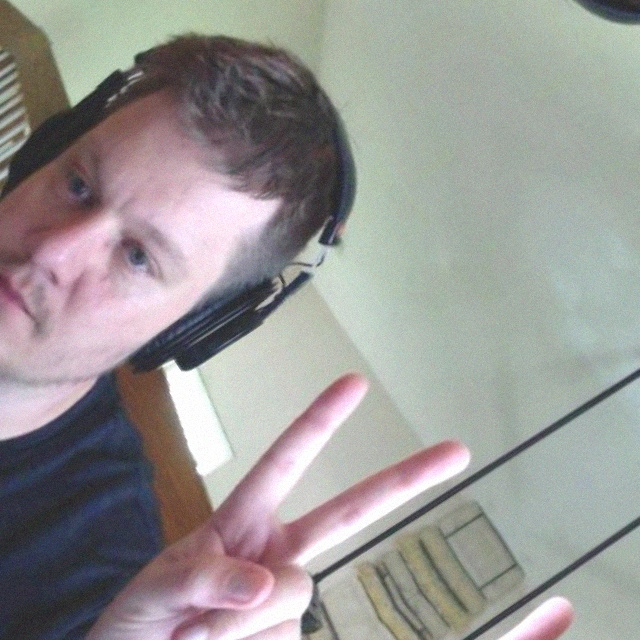Scissors: (0, 603, 123, 640)
